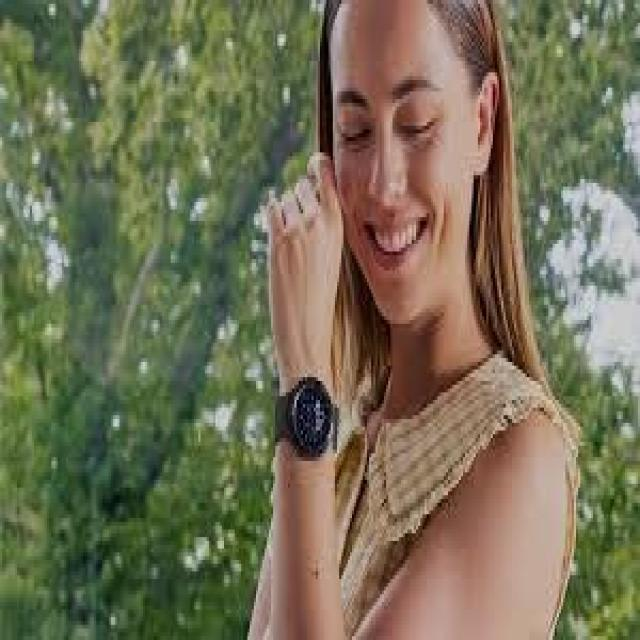objects: (267, 370, 343, 455)
